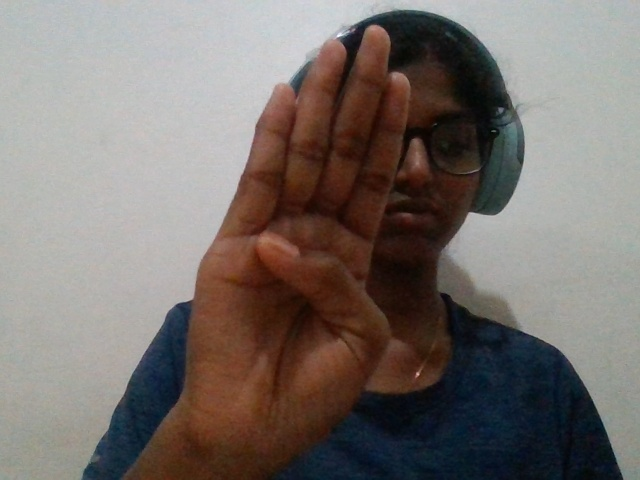B: (167, 15, 418, 466)
